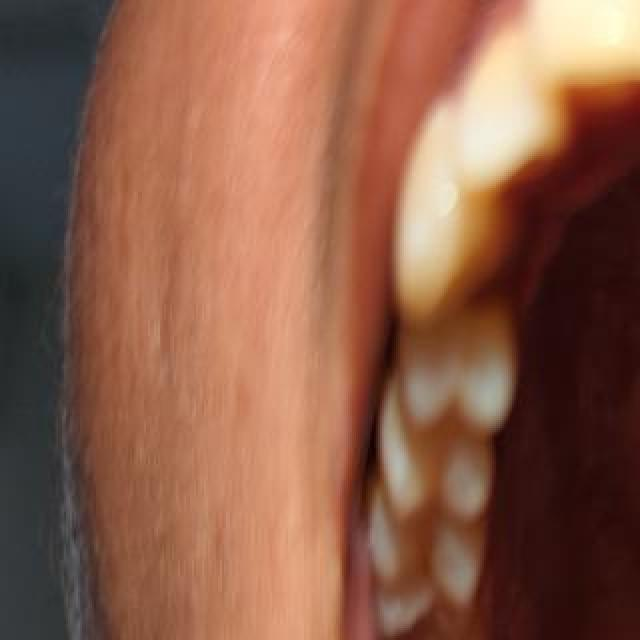maligned: (381, 113, 539, 347), (440, 0, 564, 182)
